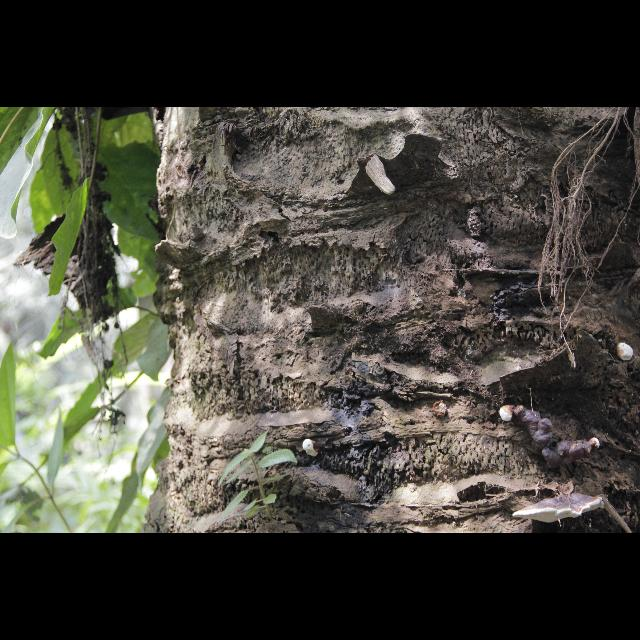ganoderma: (515, 406, 591, 472), (514, 494, 606, 525)
primordium: (617, 344, 635, 362), (304, 440, 321, 459), (500, 405, 515, 423), (591, 438, 601, 450)
